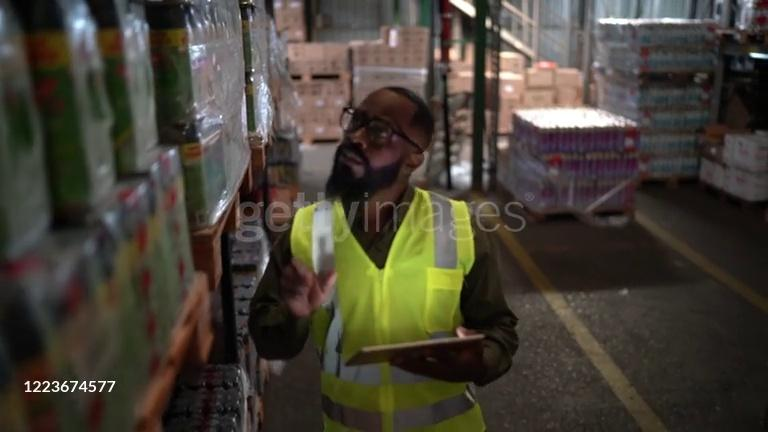person: (247, 84, 519, 432)
